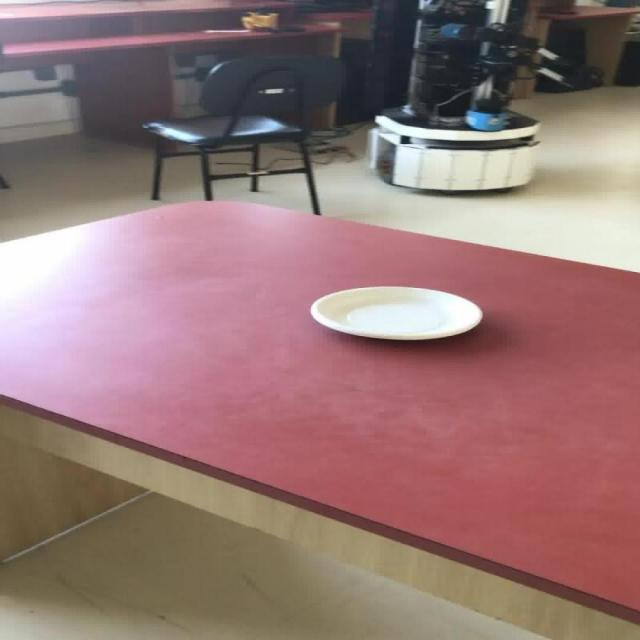Plate: (309, 286, 482, 340)
